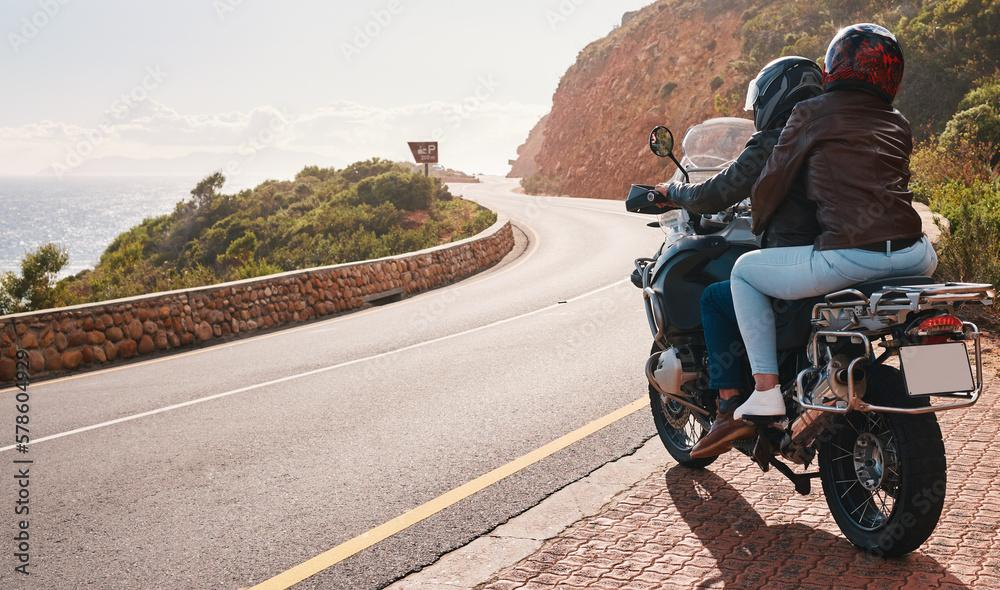helmet: (743, 55, 833, 133), (821, 22, 905, 105)
